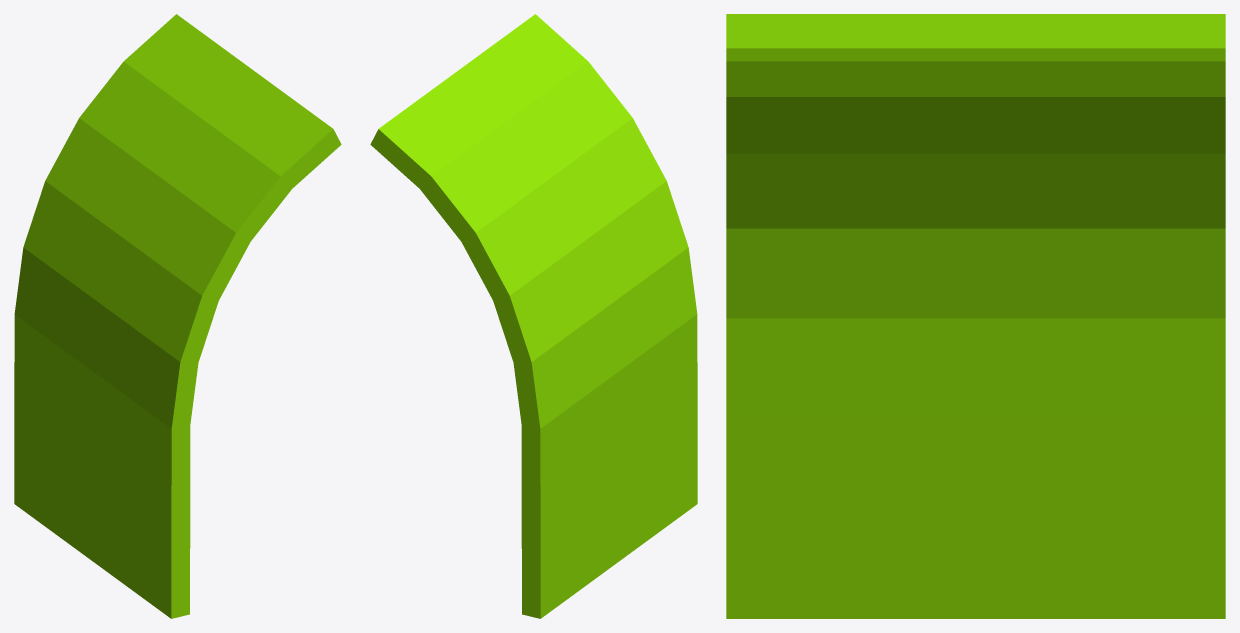
The model's file is Wall_01_Bend_01.fbx.
The picture shows the model from 3 angles, left to right: view 1: azimuth 30°, elevation 25°; view 2: azimuth 150°, elevation 25°; view 3: azimuth 270°, elevation 25°; orthographic projection. The views are drawn at different scales.
Parts seen in each view (by area): view 1: Wall_01_Bend_01; view 2: Wall_01_Bend_01; view 3: Wall_01_Bend_01.
Part boxes in pixels (box(x1,y1,x2,y2)): Wall_01_Bend_01: box(14, 14, 341, 618); Wall_01_Bend_01: box(370, 14, 697, 618); Wall_01_Bend_01: box(726, 14, 1225, 618).
Bounding box in the file's own units: 202 × 510 × 322.
